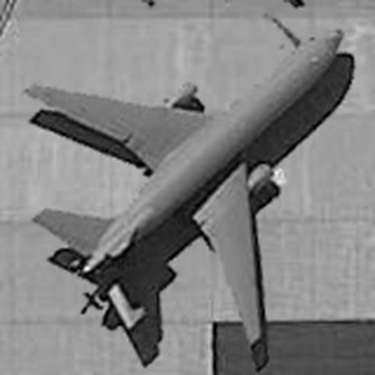airplane: (11, 13, 358, 365)
